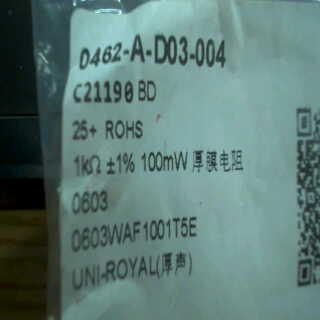1kR: (62, 144, 104, 181)
